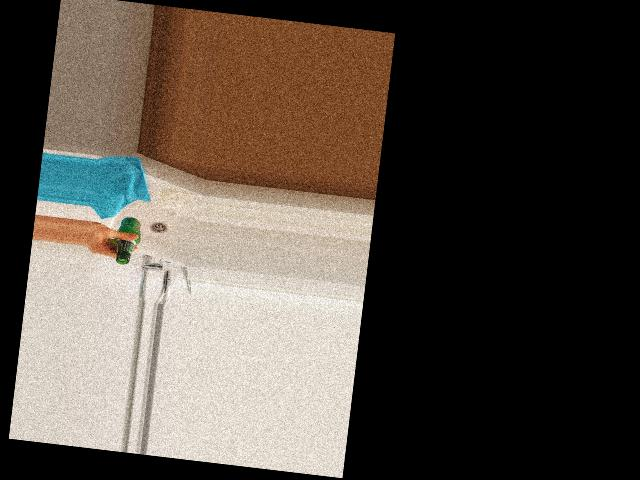beer: (112, 215, 143, 265)
